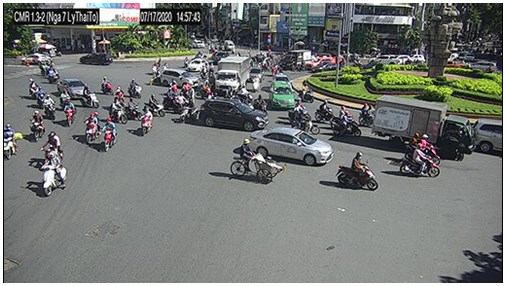xe_hoi: (251, 129, 332, 167), (199, 99, 267, 132), (159, 68, 200, 90), (56, 77, 90, 101), (268, 81, 295, 110), (78, 52, 113, 67), (20, 52, 53, 65), (307, 56, 335, 70), (187, 56, 209, 71)
xe_may: (336, 151, 378, 192), (401, 143, 440, 179), (40, 152, 69, 197), (405, 133, 441, 165), (332, 112, 363, 138), (3, 121, 20, 161), (293, 110, 320, 135), (102, 115, 118, 154), (108, 96, 128, 125), (83, 111, 100, 145), (29, 110, 46, 143), (314, 100, 337, 123), (79, 83, 100, 108), (145, 93, 166, 118), (179, 98, 198, 123), (139, 106, 154, 137), (172, 93, 193, 113), (125, 98, 143, 121), (43, 92, 57, 121), (359, 102, 374, 127), (163, 89, 179, 111), (63, 101, 75, 127), (298, 83, 312, 105), (255, 94, 268, 116), (128, 78, 142, 97), (47, 62, 59, 83), (101, 77, 114, 96), (29, 78, 40, 99), (36, 86, 45, 109), (151, 59, 162, 76), (252, 76, 262, 93), (200, 64, 209, 82), (113, 85, 123, 100), (270, 63, 278, 77), (209, 66, 215, 81)
xe_tai: (214, 57, 250, 94)
xe_xich_lo: (230, 139, 287, 185)
